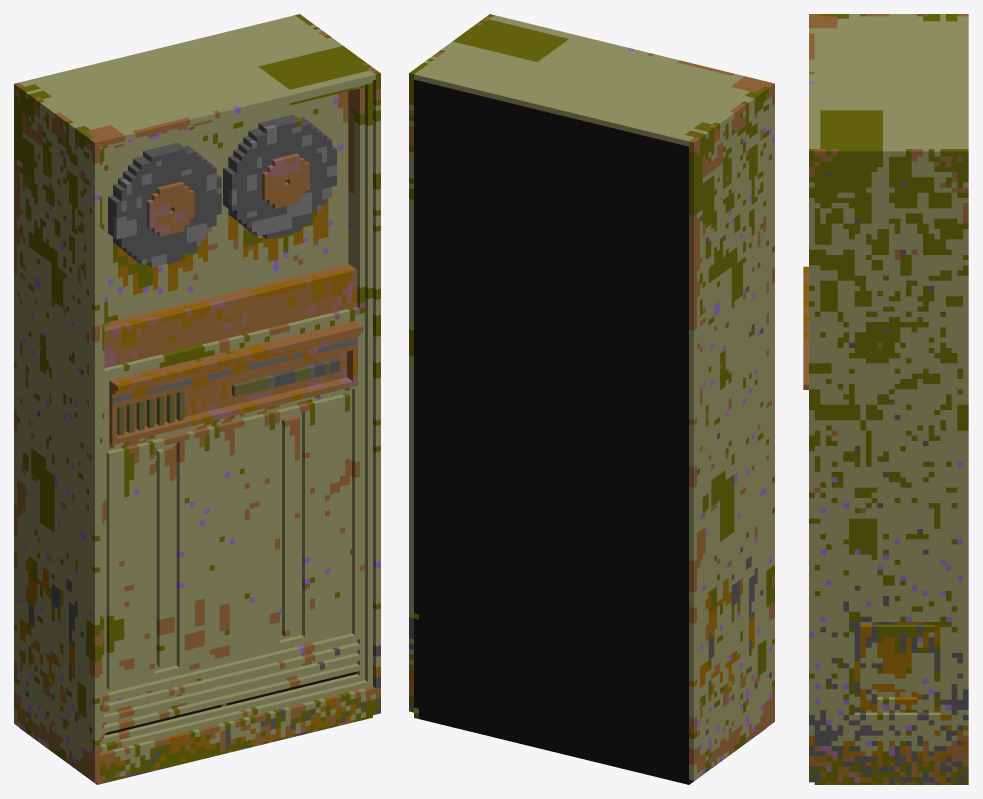
Rendered from mainframe.obj.
3 renders of one model, left to right at view 1: azimuth 30°, elevation 25°; view 2: azimuth 150°, elevation 25°; view 3: azimuth 270°, elevation 25°, orthographic.
Visible parts, largest first — view 1: mainframe; view 2: mainframe; view 3: mainframe.
Part boxes in pixels (left/top/right/bottom): mainframe: left=14, top=14, right=380, bottom=784; mainframe: left=409, top=14, right=774, bottom=784; mainframe: left=803, top=14, right=968, bottom=784.
Size of the model in its own units: 5.7 by 12.3 by 2.9.
1 material, 1 textured.
